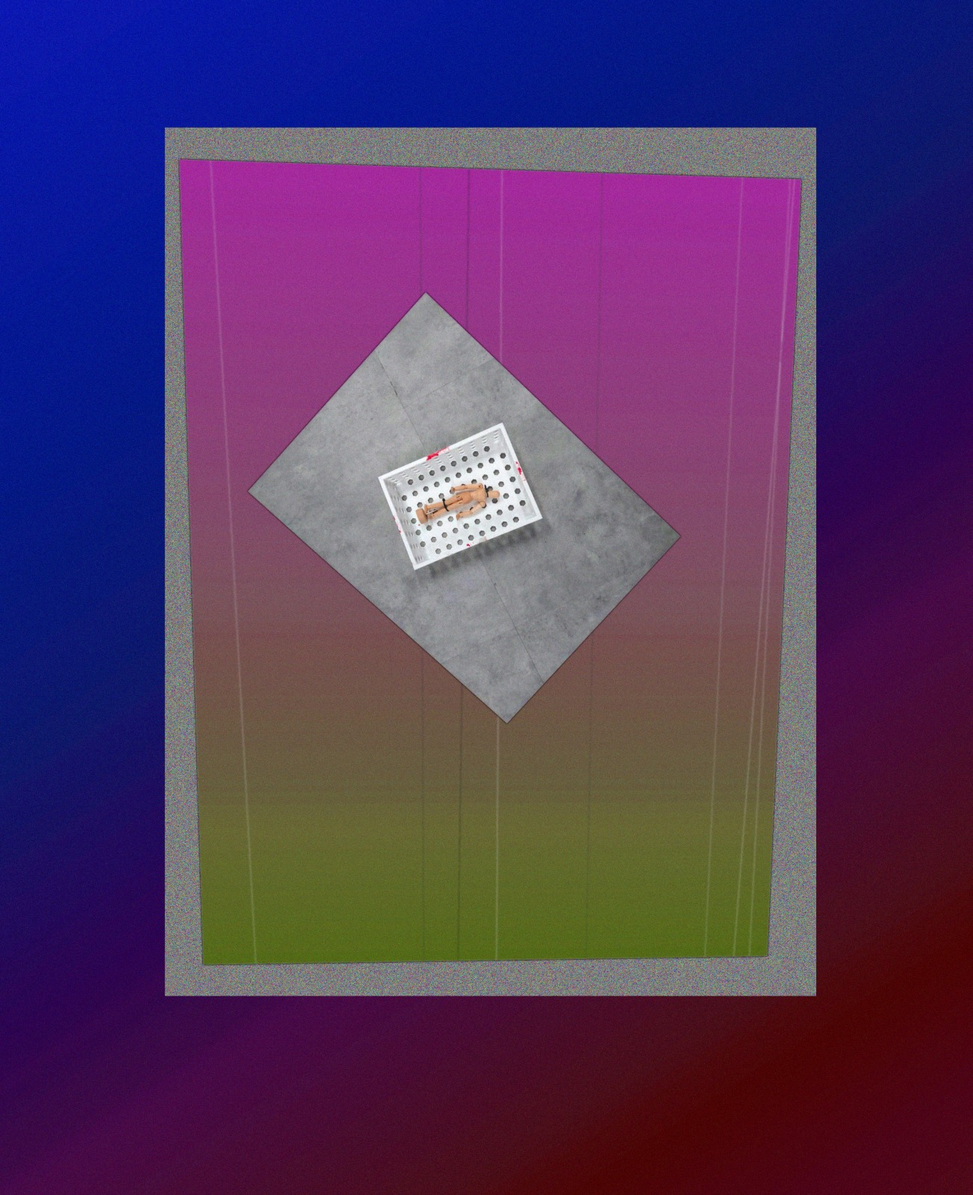basket: (373, 419, 548, 575)
mannequin: (413, 478, 501, 528)
